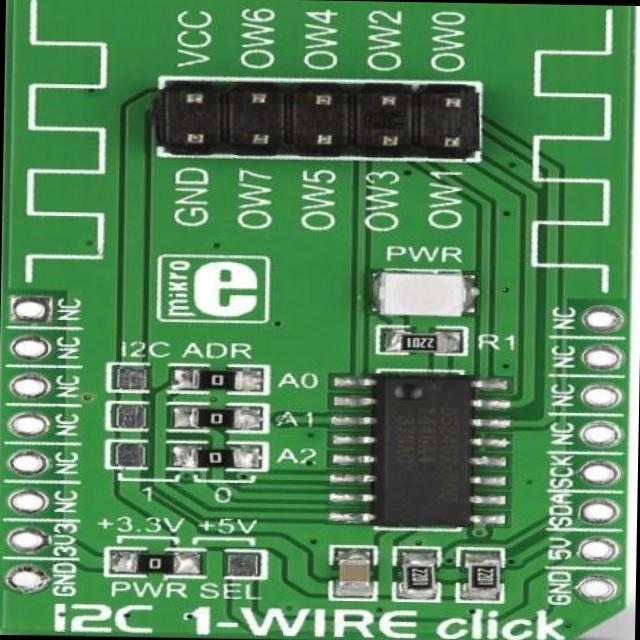IC: (344, 370, 505, 526)
LED: (378, 272, 469, 320)
capacitor: (335, 556, 376, 590)
resistor: (394, 552, 436, 594), (393, 327, 458, 354), (125, 550, 196, 573), (188, 409, 258, 428), (192, 368, 250, 390), (464, 557, 498, 592), (196, 449, 252, 467)
